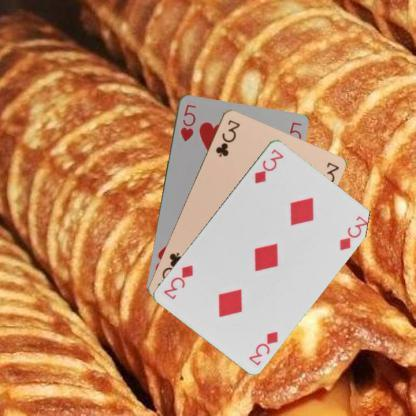3c: (212, 116, 242, 158)
3d: (251, 146, 285, 186), (246, 328, 280, 367)
5h: (178, 102, 196, 142)
